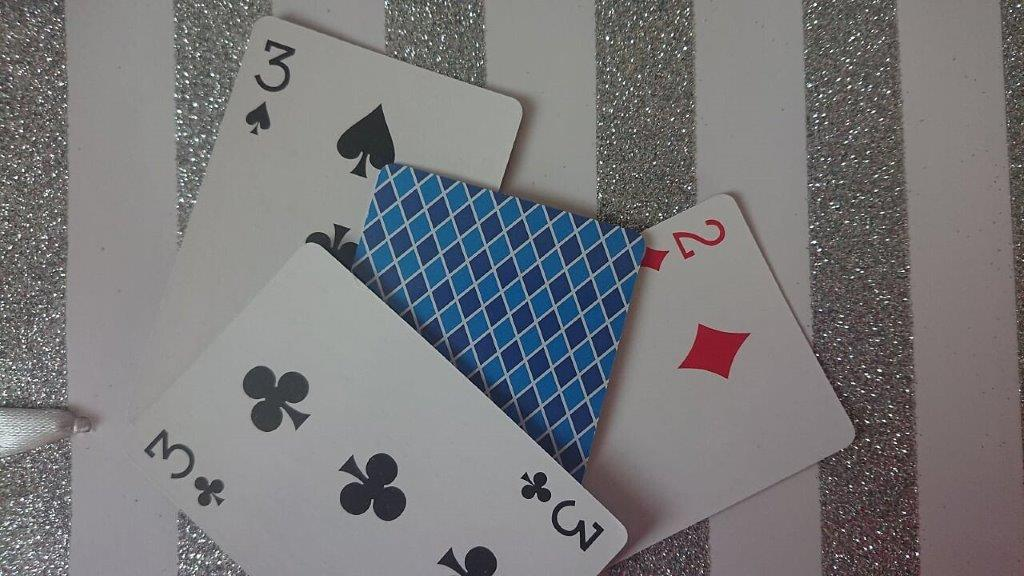2D: (647, 214, 732, 276)
3C: (133, 419, 242, 518)
3S: (234, 27, 303, 146)
BACK: (350, 162, 647, 271)
